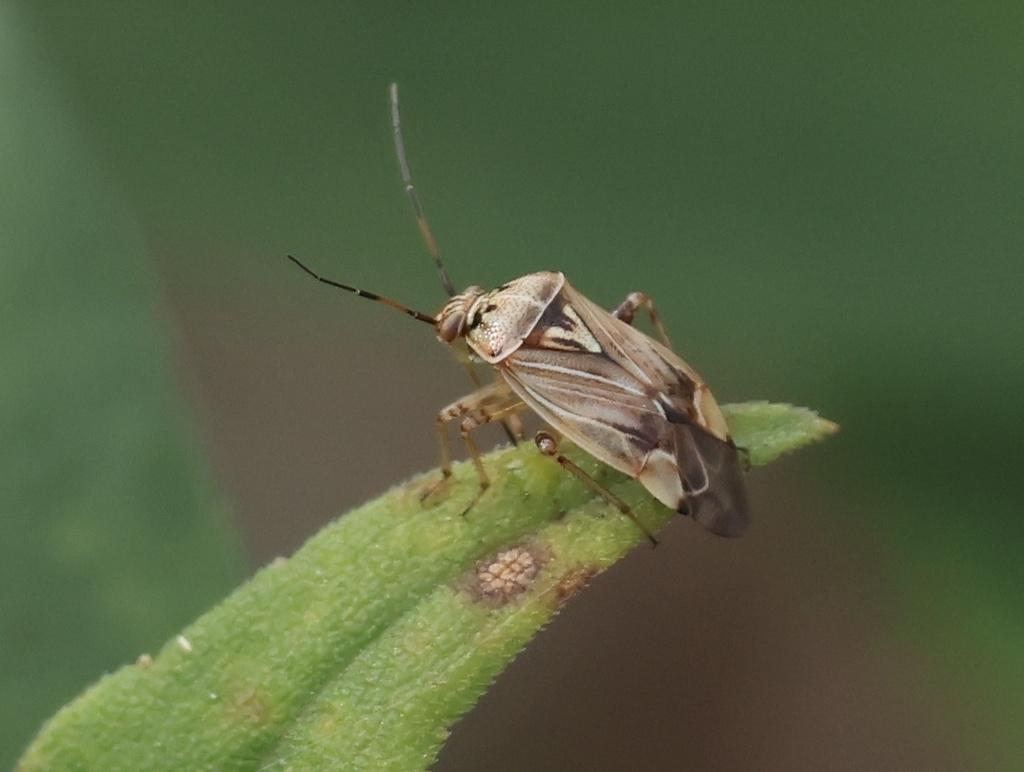plant_bugs: (202, 32, 825, 595)
